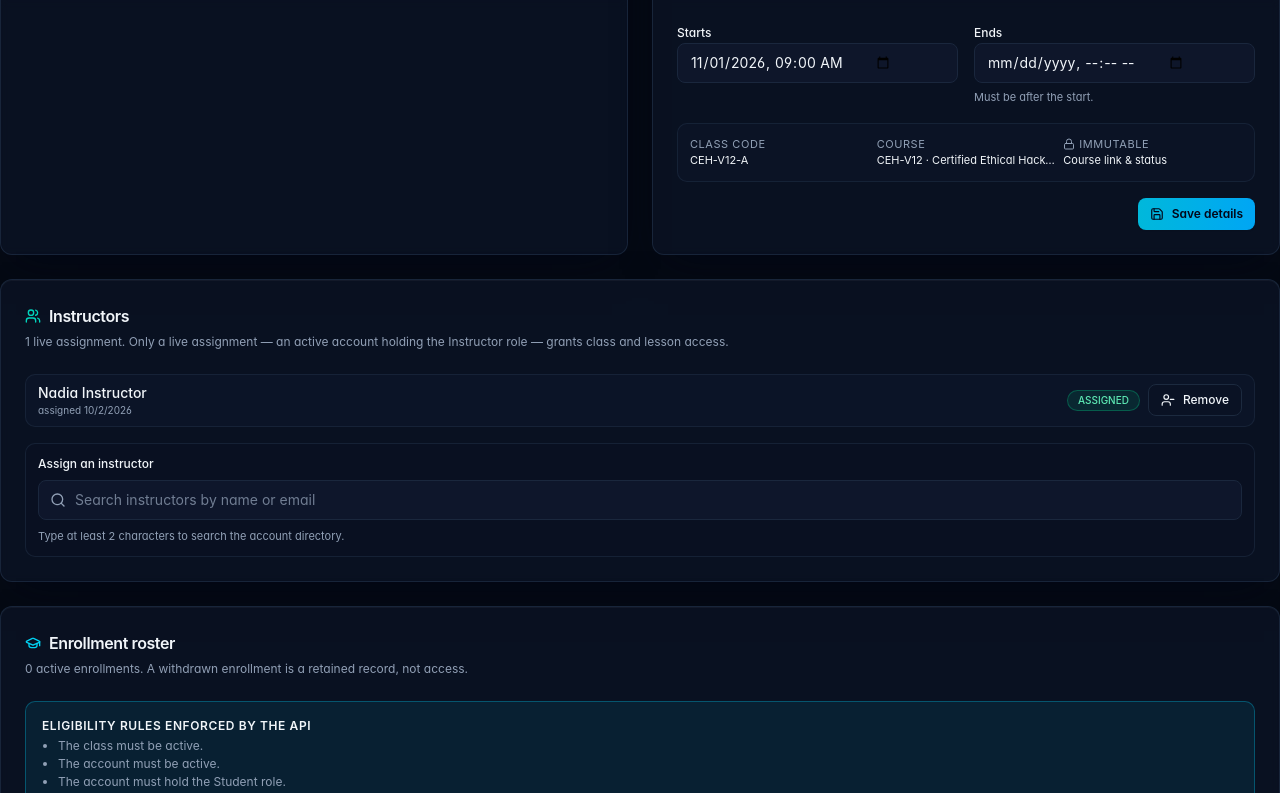
Scenario: Step-up replay on class mutations › surfaces the real API error when the replay fails
The width and height of the screenshot is (1280, 793).
(page scrolled)
Expected: the text "Nadia Instructor" is shown, [38,383,147,403]
Click the button with aria-label "Remove Nadia Instructor". click: (1195, 400)
box: [1148,384,1242,416]
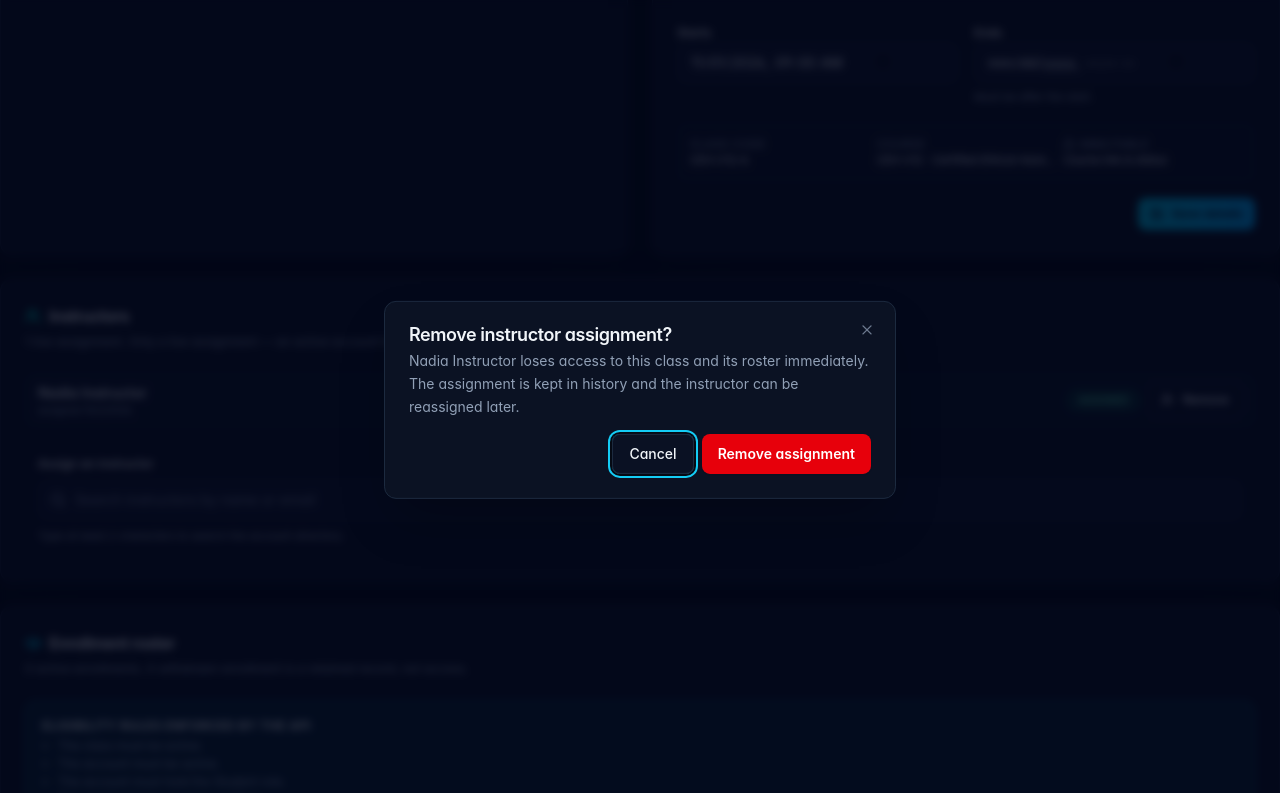
Click the button "Remove assignment". click: (786, 454)
box: [702,434,871,474]
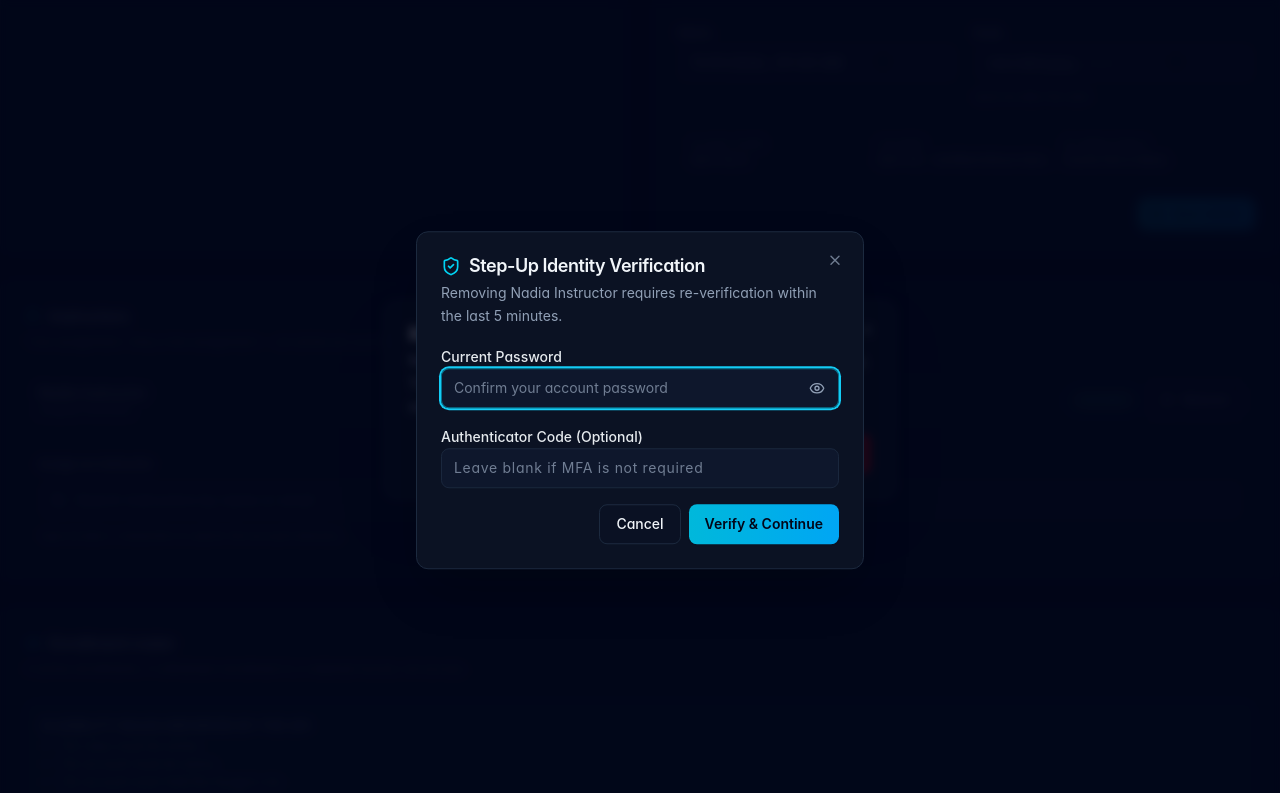
Type "Correct-Horse-1" into the password field labelled "Current Password". click: (640, 388)
box: [441,368,839,408]
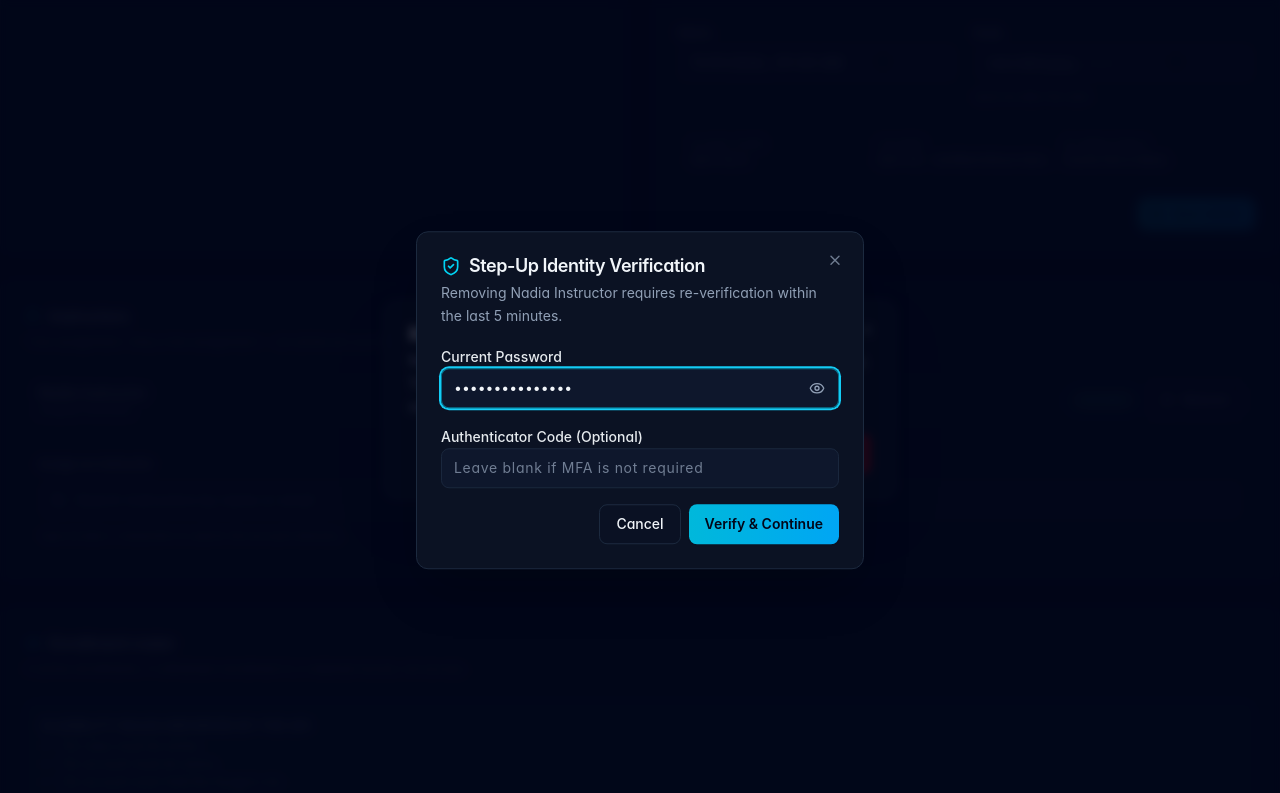
Click the button "Verify & Continue". click: (764, 524)
box: [689,504,839,544]
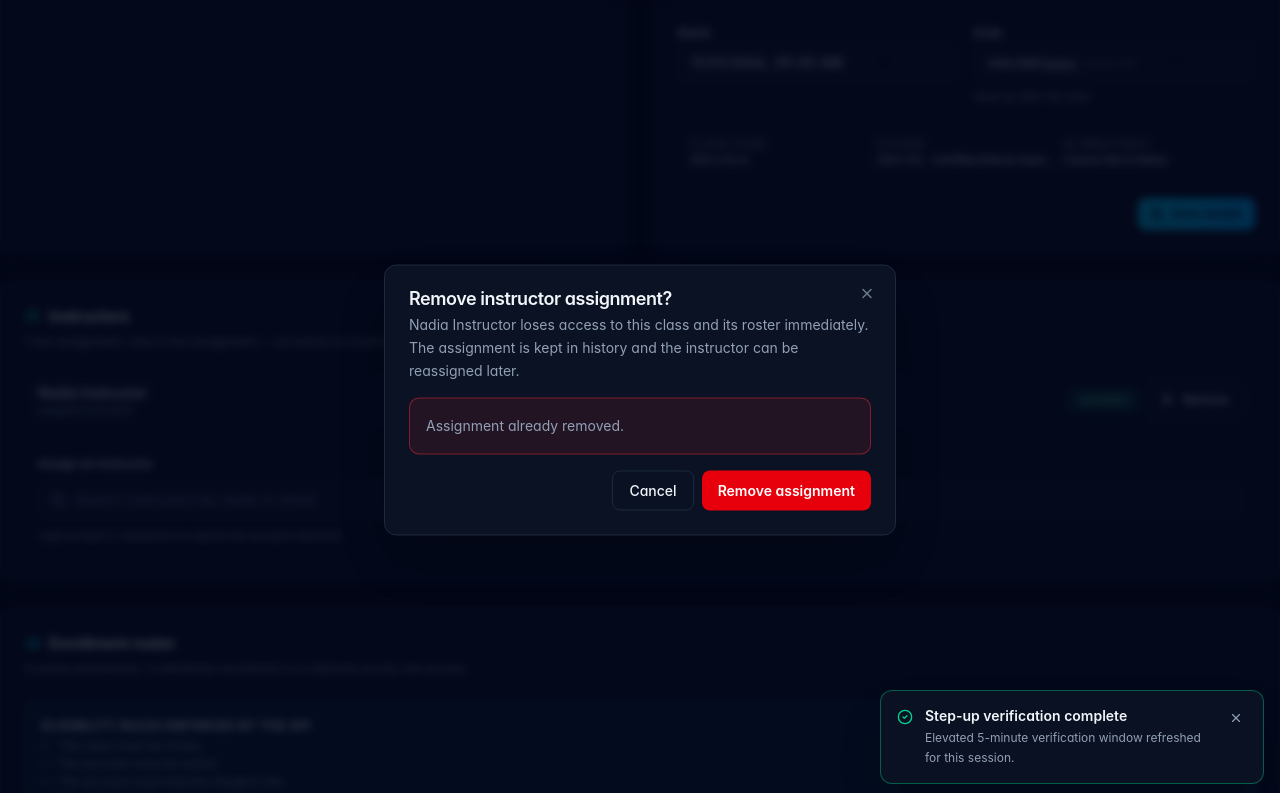
Expected: the text "Assignment already removed." is shown, [426,417,624,434]
